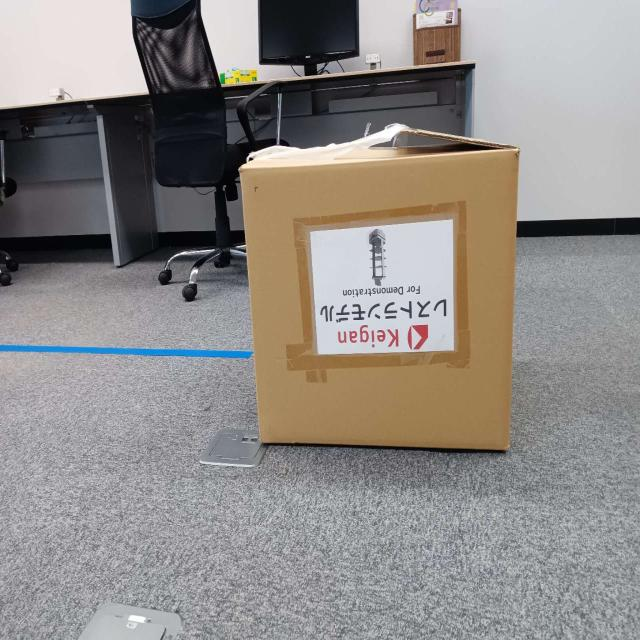box: (242, 147, 509, 450)
